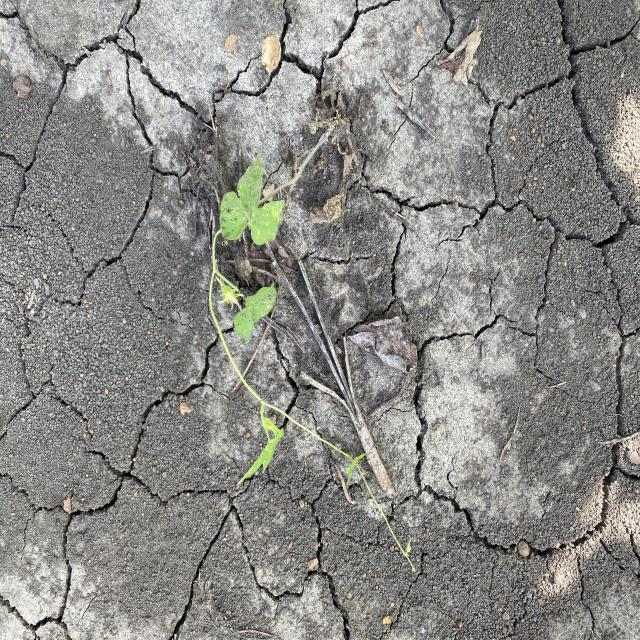MorningGlory: (207, 153, 417, 576)
